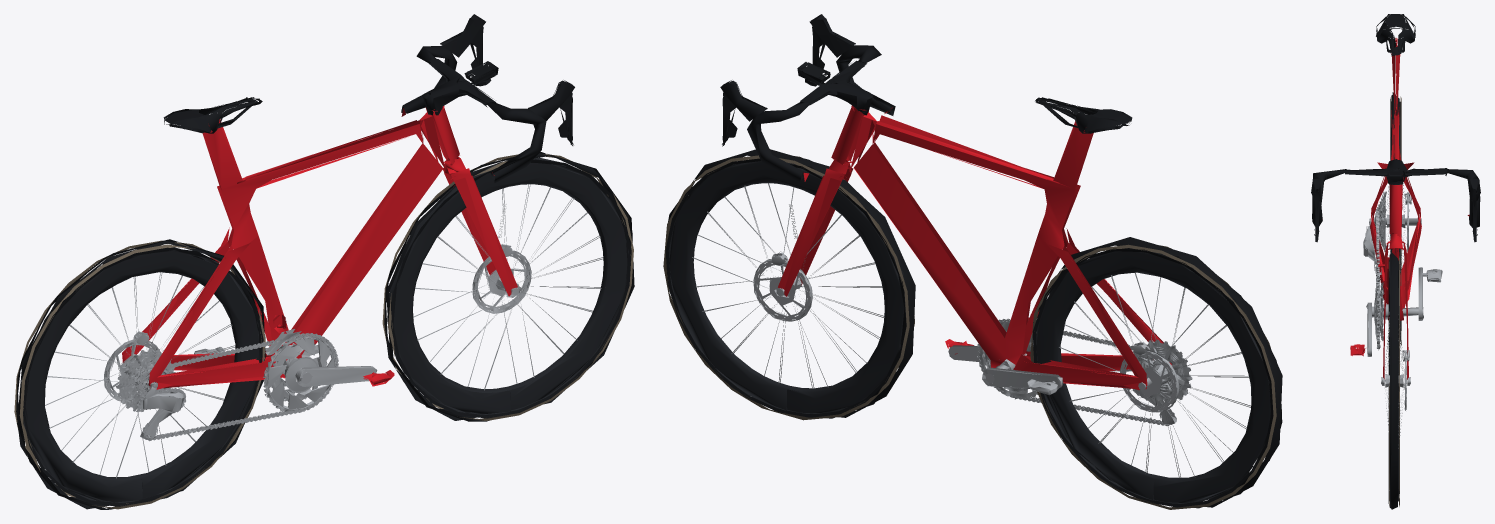
File: road-bike-clean-v44-facets-v1.glb
The picture shows the model from 3 angles, left to right: view 1: azimuth 30°, elevation 25°; view 2: azimuth 150°, elevation 25°; view 3: azimuth 270°, elevation 25°; orthographic projection. The views are drawn at different scales.
Visible parts, largest first — view 1: Bike finish Object_8.001, Bike finish Object_7.001, Bike finish Object_8.002, Bike finish Object_7, Bike finish Object_7.003, Bike finish Object_8.003, Bike finish Object_8, Bike finish Object_7.002; view 2: Bike finish Object_7.001, Bike finish Object_8.001, Bike finish Object_7.002, Bike finish Object_8.002, Bike finish Object_7.003, Bike finish Object_7, Bike finish Object_8.003, Bike finish Object_8; view 3: Bike finish Object_7.001, Bike finish Object_7.003, Bike finish Object_8.002, Bike finish Object_8.003, Bike finish Object_7, Bike finish Object_8, Bike finish Object_8.001, Bike finish Object_7.002.
Part boxes in pixels (box(x1,y1,x2,y2)): Bike finish Object_8.001: box(21, 162, 628, 503); Bike finish Object_7.001: box(122, 106, 517, 389); Bike finish Object_8.002: box(16, 152, 634, 509); Bike finish Object_7: box(104, 244, 531, 441); Bike finish Object_7.003: box(163, 14, 574, 182); Bike finish Object_8.003: box(45, 184, 603, 478); Bike finish Object_8: box(14, 154, 633, 509); Bike finish Object_7.002: box(387, 157, 607, 400); Bike finish Object_7.001: box(778, 105, 1171, 390); Bike finish Object_8.001: box(669, 161, 1273, 504); Bike finish Object_7.002: box(668, 161, 905, 414); Bike finish Object_8.002: box(665, 149, 1282, 508); Bike finish Object_7.003: box(720, 14, 1132, 181); Bike finish Object_7: box(753, 251, 1192, 426); Bike finish Object_8.003: box(692, 183, 1250, 477); Bike finish Object_8: box(663, 155, 1281, 509); Bike finish Object_7.001: box(1350, 38, 1469, 379); Bike finish Object_7.003: box(1311, 14, 1480, 242); Bike finish Object_8.002: box(1388, 92, 1401, 509); Bike finish Object_8.003: box(1367, 184, 1423, 448); Bike finish Object_7: box(1363, 191, 1442, 410); Bike finish Object_8: box(1389, 96, 1401, 506); Bike finish Object_8.001: box(1389, 101, 1400, 500); Bike finish Object_7.002: box(1398, 260, 1398, 501).
Bounding box in the file's own units: 1.78 × 1.05 × 0.4799.
